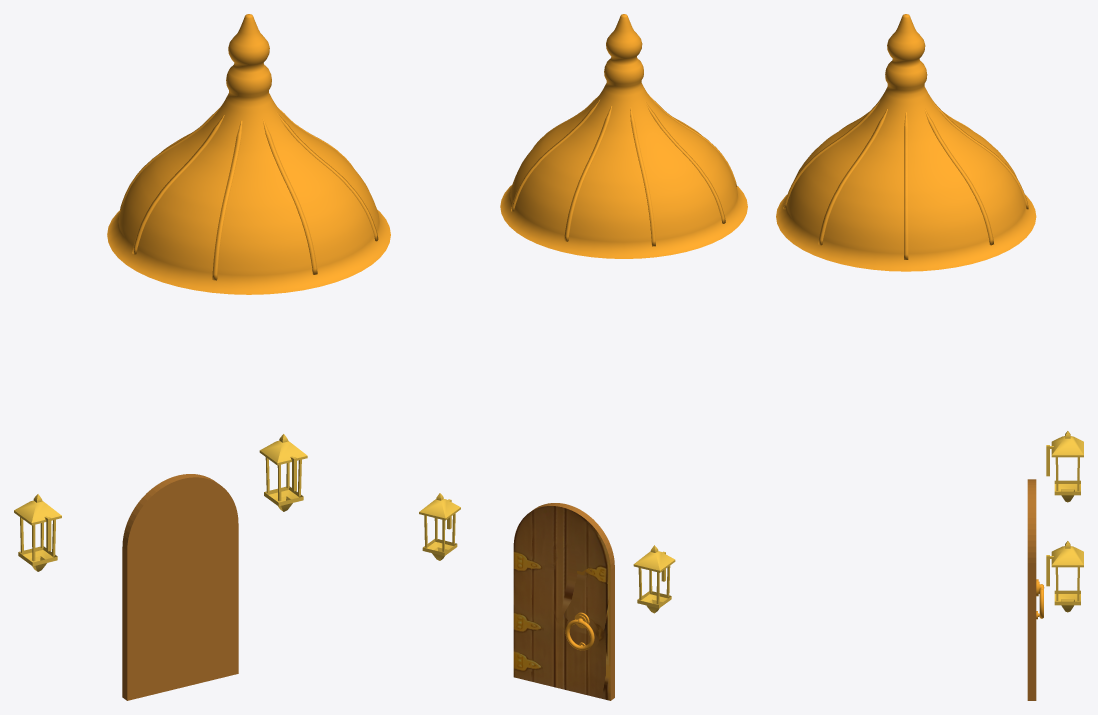
Rendered from HaloDomeHouse_10_deco.glb.
The picture shows the model from 3 angles, left to right: view 1: azimuth 30°, elevation 25°; view 2: azimuth 150°, elevation 25°; view 3: azimuth 270°, elevation 25°; orthographic projection. The views are drawn at different scales.
Visible parts, largest first — view 1: HaloDomeHouse_10_Dome, HaloDomeHouse_10_Leaf, HaloDomeHouse_10_DomeRibs, HaloDomeHouse_10_Lantern1, HaloDomeHouse_10_Lantern0; view 2: HaloDomeHouse_10_Dome, HaloDomeHouse_10_Leaf, HaloDomeHouse_10_DomeRibs, HaloDomeHouse_10_Lantern0, HaloDomeHouse_10_Lantern1, Orn_HaloDomeHouse_10_Knocker; view 3: HaloDomeHouse_10_Dome, HaloDomeHouse_10_DomeRibs, HaloDomeHouse_10_Leaf, HaloDomeHouse_10_Lantern1, HaloDomeHouse_10_Lantern0.
Boxes of the visible parts, box(x1,y1,x2,y2) form: HaloDomeHouse_10_Dome: box(107, 14, 390, 294); HaloDomeHouse_10_Leaf: box(122, 474, 238, 700); HaloDomeHouse_10_DomeRibs: box(119, 106, 378, 280); HaloDomeHouse_10_Lantern1: box(14, 494, 61, 571); HaloDomeHouse_10_Lantern0: box(259, 434, 307, 511); HaloDomeHouse_10_Dome: box(500, 14, 747, 258); HaloDomeHouse_10_Leaf: box(513, 503, 614, 700); HaloDomeHouse_10_DomeRibs: box(511, 94, 736, 246); HaloDomeHouse_10_Lantern0: box(419, 493, 460, 560); HaloDomeHouse_10_Lantern1: box(633, 545, 675, 613); Orn_HaloDomeHouse_10_Knocker: box(565, 612, 594, 650); HaloDomeHouse_10_Dome: box(776, 14, 1036, 271); HaloDomeHouse_10_DomeRibs: box(783, 101, 1028, 259); HaloDomeHouse_10_Leaf: box(1027, 479, 1036, 700); HaloDomeHouse_10_Lantern1: box(1046, 431, 1083, 502); HaloDomeHouse_10_Lantern0: box(1046, 541, 1083, 612).
Size of the model in its own units: 10.68 by 26.63 by 11.24.
Materials: 4 (1 with a texture image).
